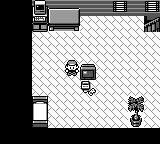leer: (79, 64, 96, 96), (33, 1, 48, 32)
main: (64, 60, 80, 76)
no-caminable: (0, 0, 159, 143), (46, 0, 159, 16), (49, 9, 79, 30), (32, 96, 49, 128), (128, 95, 144, 127), (32, 1, 35, 8)
puerta: (144, 15, 159, 32)
